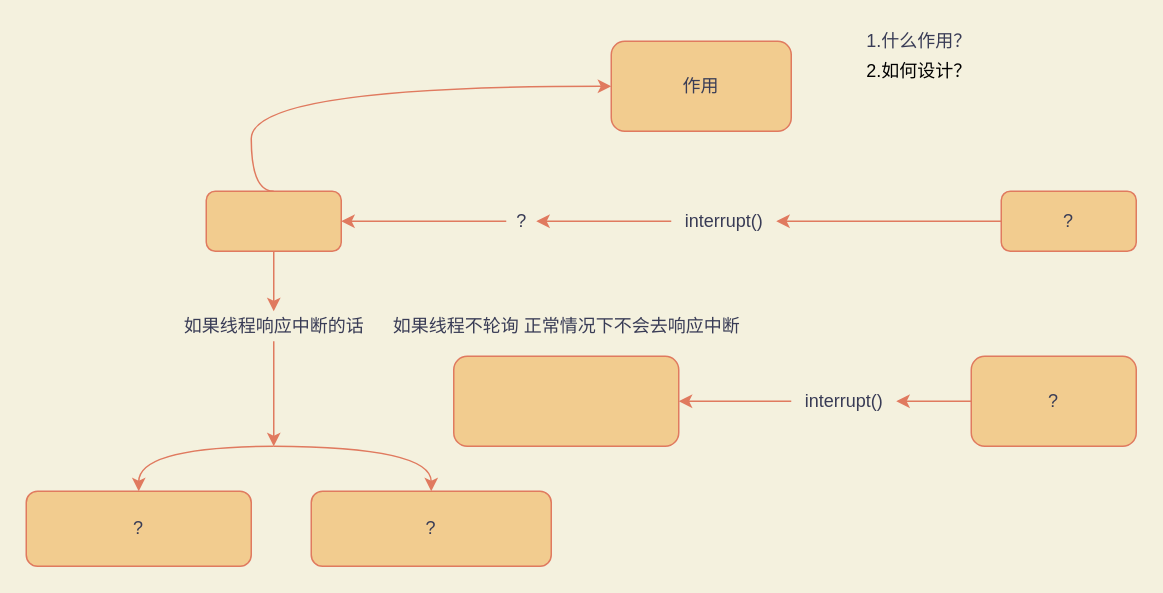
The diagram is 1163 pixels wide and 593 high, and some of its shapes have lost their labels. The centre of each missing label's shape, as x and y in pixels:
"InterruptedException" goes at pixel 565 400.
"中断状态" goes at pixel 273 220.
